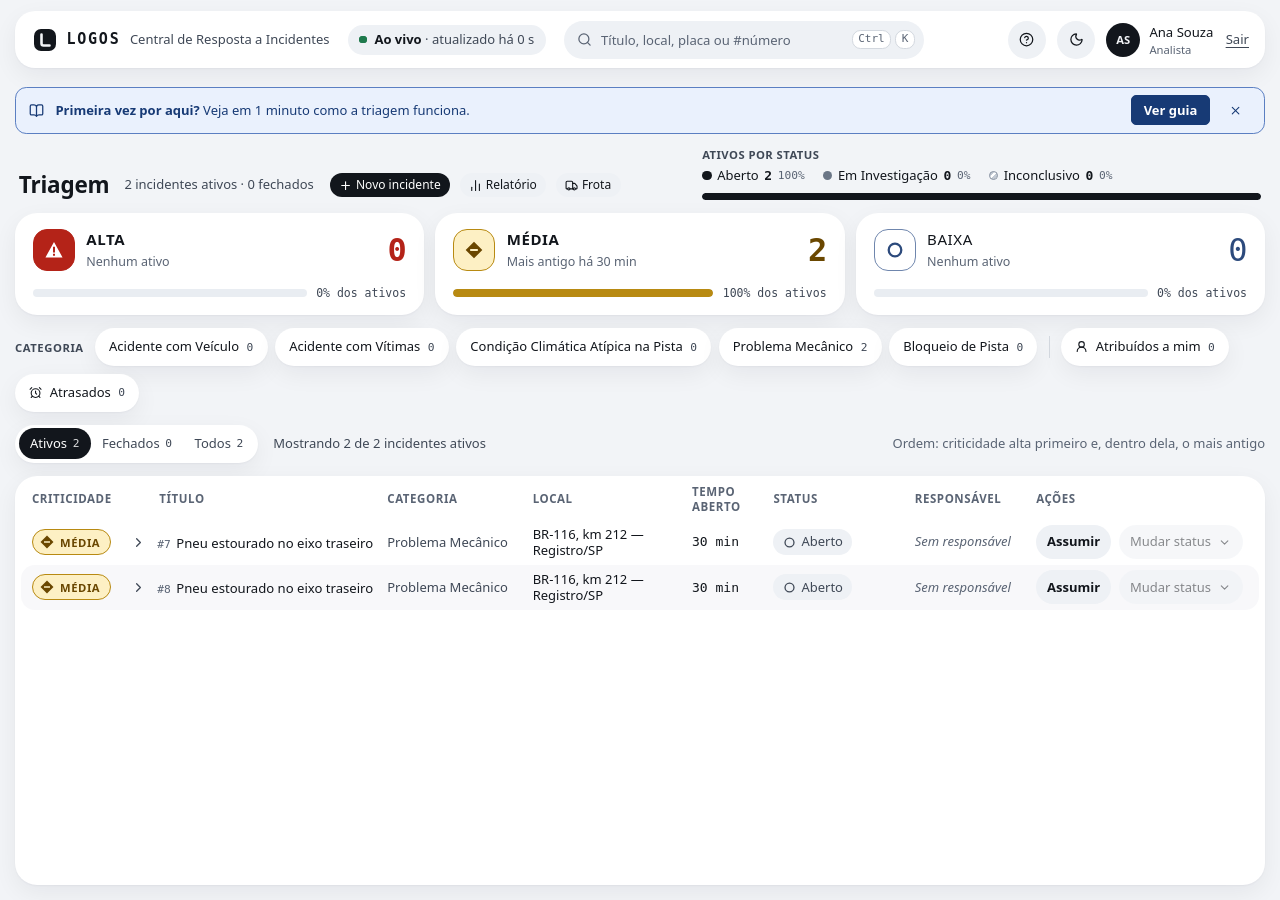
Scenario: TelaTriagem — ações › no 404 tira a linha da lista e explica
Click the button with aria-label "Assumir #7". click: (1074, 542)
box: [1036, 525, 1111, 559]
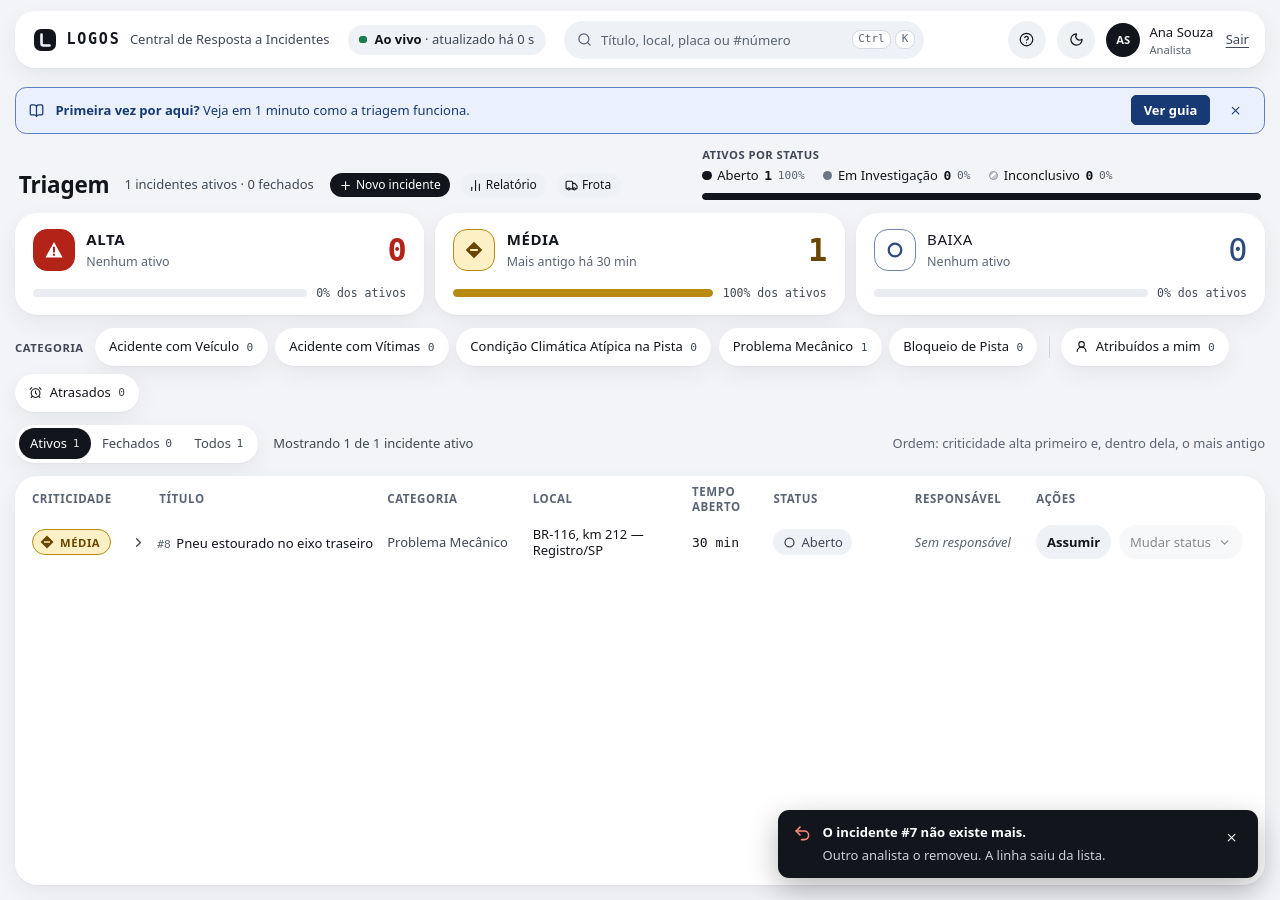
Expected: the message that starts with "O incidente #7 não existe mais." is shown, [822, 823, 1026, 841]
